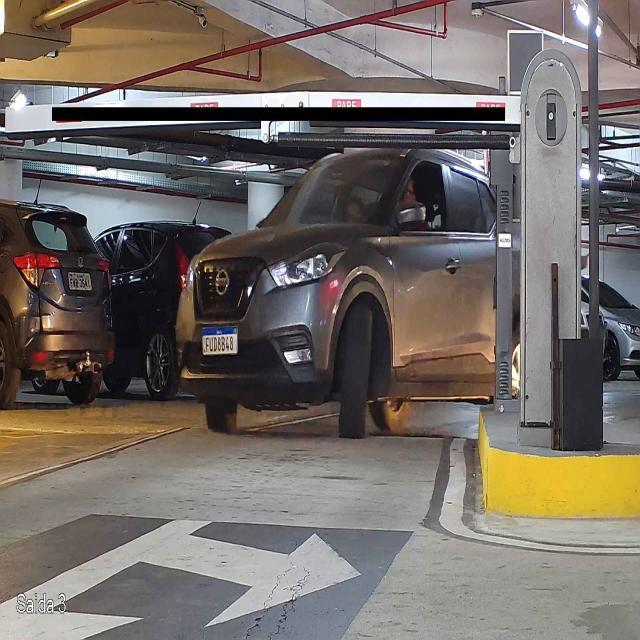mercosul_plate: (201, 325, 240, 357)
